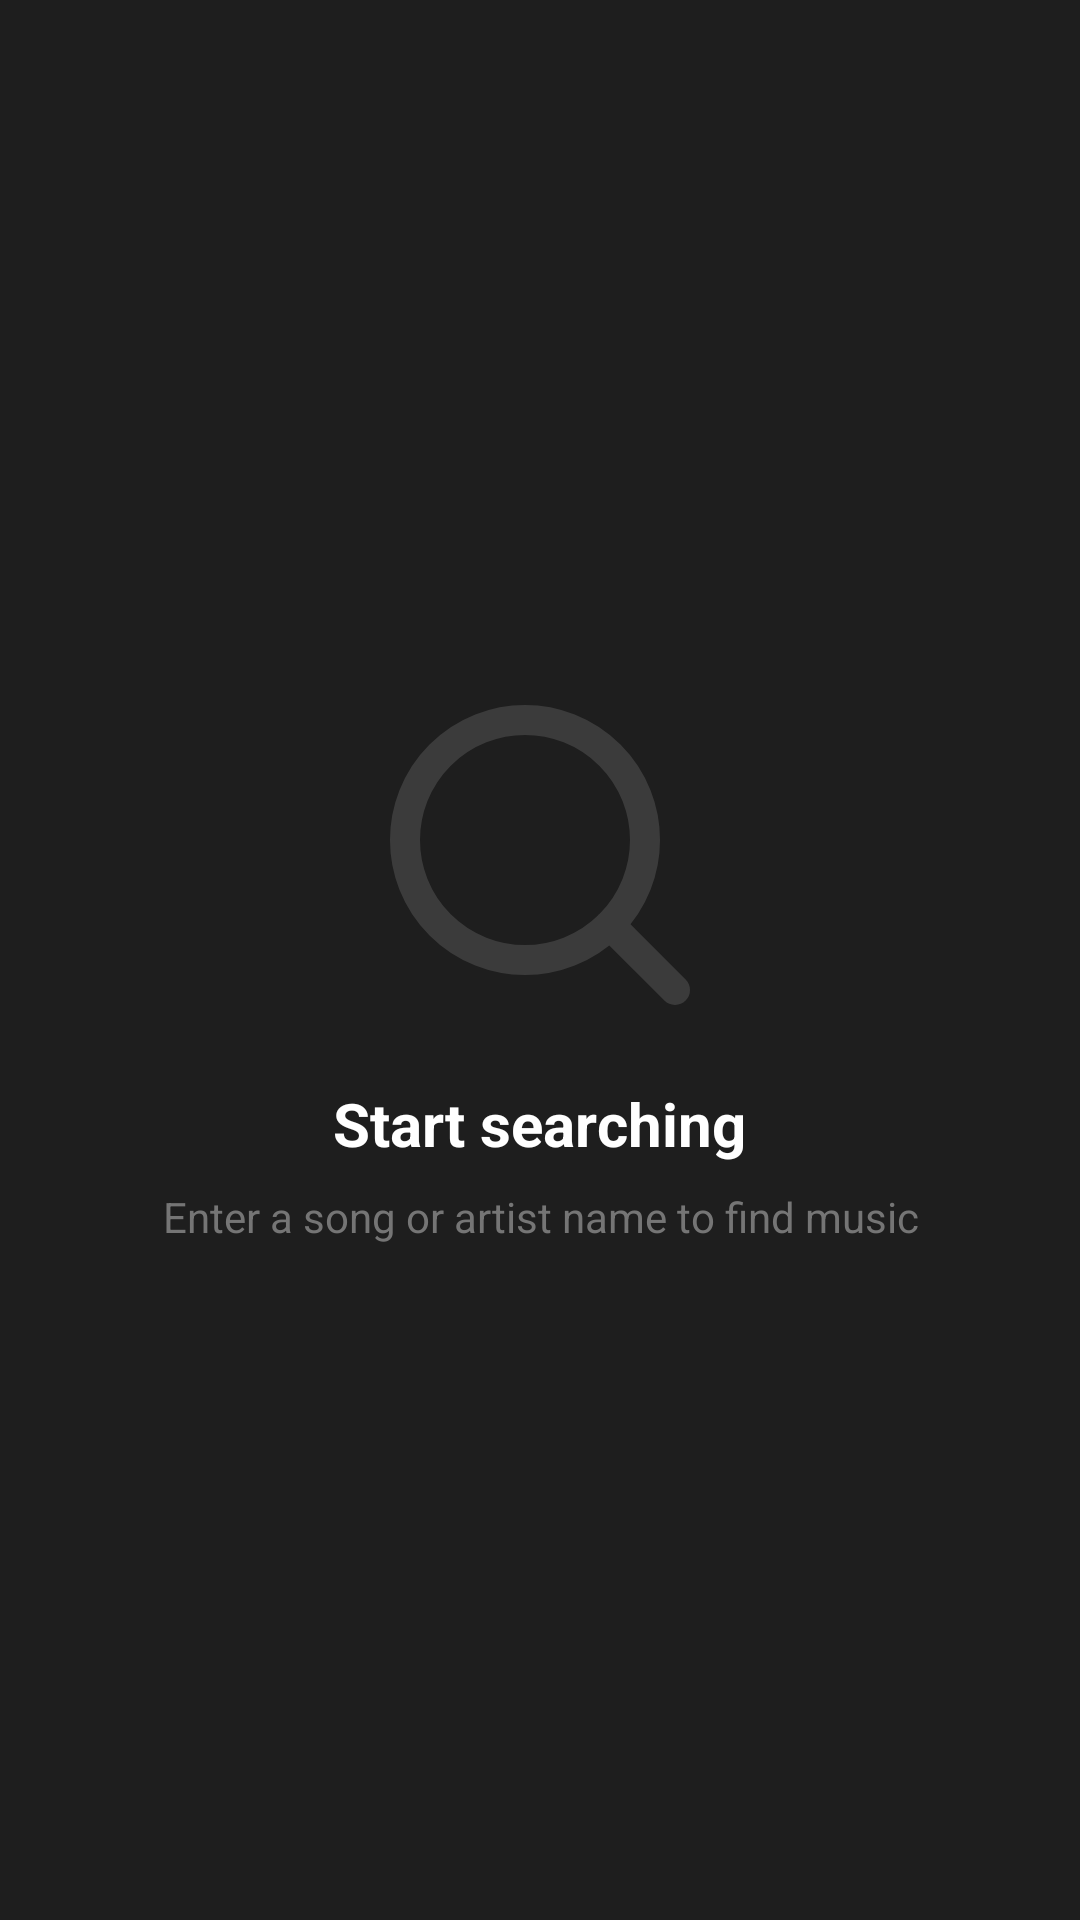

Point at icon controls on the screen. Image size 1080*1920, points as point (x, y).
Search for music: point (540, 855)
